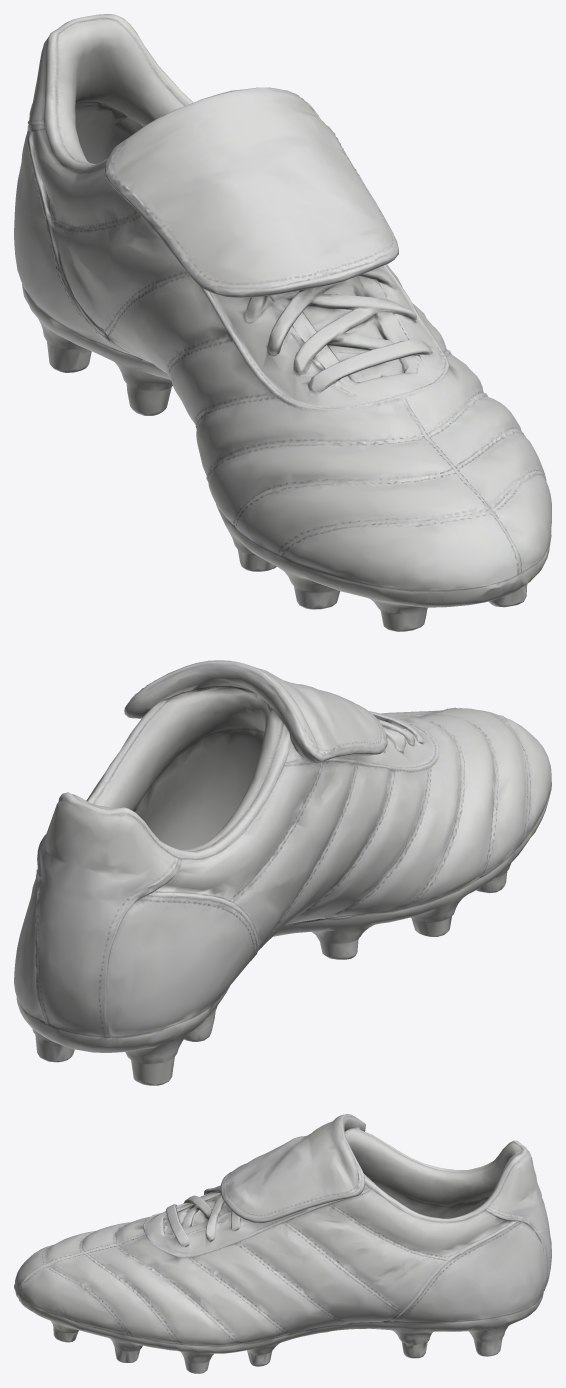
Rendered from boot-control-hf.glb.
3 views of the same model, one above another, from view 1: azimuth 30°, elevation 25°; view 2: azimuth 150°, elevation 25°; view 3: azimuth 270°, elevation 25° (orthographic). The views are drawn at different scales.
Parts seen in each view (by area): view 1: tripo_node_5627d3d1-9229-4d3d-b7b3-697a7d745621; view 2: tripo_node_5627d3d1-9229-4d3d-b7b3-697a7d745621; view 3: tripo_node_5627d3d1-9229-4d3d-b7b3-697a7d745621.
Part boxes in pixels (x1,y1,x2,y2): tripo_node_5627d3d1-9229-4d3d-b7b3-697a7d745621: (14,14,551,631); tripo_node_5627d3d1-9229-4d3d-b7b3-697a7d745621: (14,660,551,1085); tripo_node_5627d3d1-9229-4d3d-b7b3-697a7d745621: (14,1114,551,1373).
Bounding box in the file's own units: 0.371 × 0.4346 × 1.
1 material, 1 textured.
